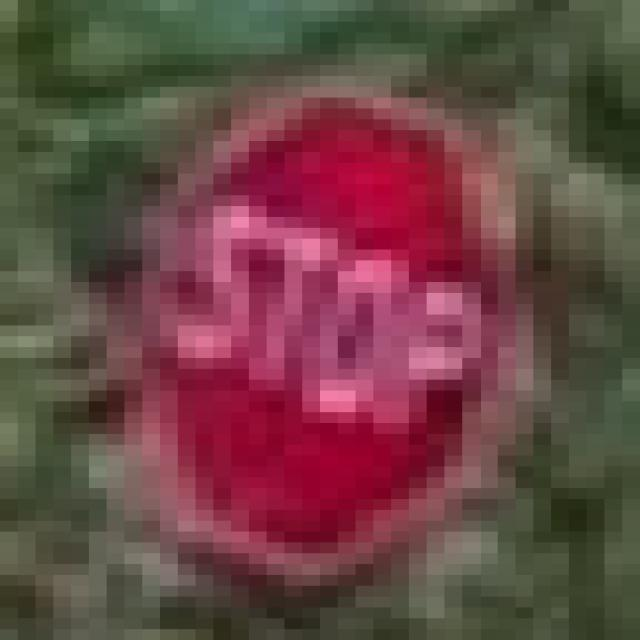Stop-Sign: (130, 111, 497, 498)
